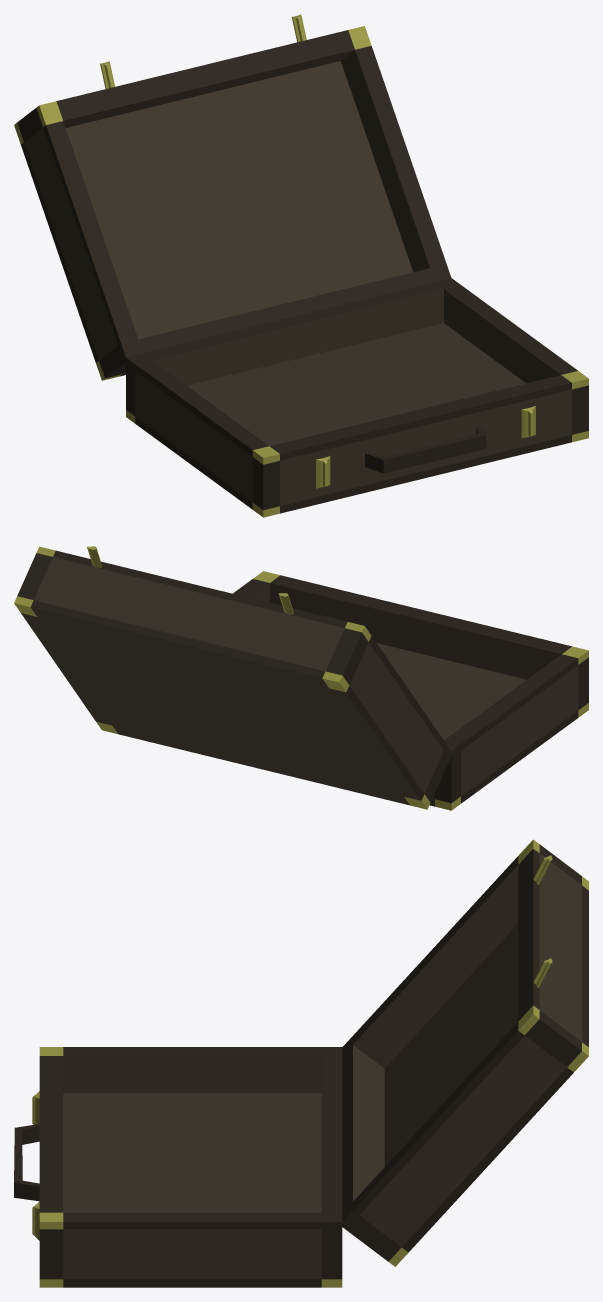
The model's file is briefcase_kai.fbx.
The picture shows the model from 3 angles, top to bottom: view 1: azimuth 30°, elevation 25°; view 2: azimuth 150°, elevation 25°; view 3: azimuth 270°, elevation 25°; orthographic projection. The views are drawn at different scales.
Visible parts, largest first — view 1: briefcase4; view 2: briefcase4; view 3: briefcase4.
Boxes of the visible parts, box(x1,y1,x2,y2) form: briefcase4: box(14, 14, 588, 517); briefcase4: box(14, 546, 588, 810); briefcase4: box(14, 839, 588, 1287).
Bounding box in the file's own units: 0.9665 × 0.7589 × 1.34.
